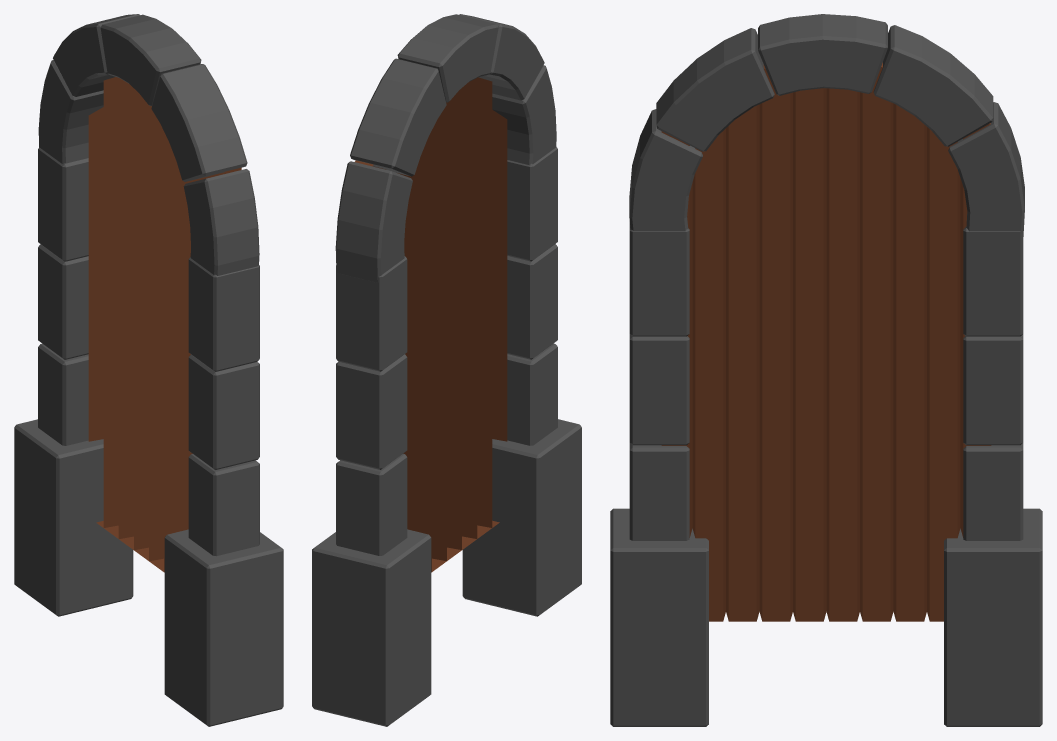
The model's file is Puerta.fbx.
3 views of the same model, side by side, from view 1: azimuth 30°, elevation 25°; view 2: azimuth 150°, elevation 25°; view 3: azimuth 270°, elevation 25° (orthographic). The views are drawn at different scales.
Visible parts, largest first — view 1: Puerta; view 2: Puerta; view 3: Puerta.
Part boxes in pixels (x1,y1,x2,y2): Puerta: (14, 14, 283, 726); Puerta: (312, 14, 581, 726); Puerta: (610, 14, 1042, 726).
Size of the model in its own units: 47.17 by 359 by 206.
